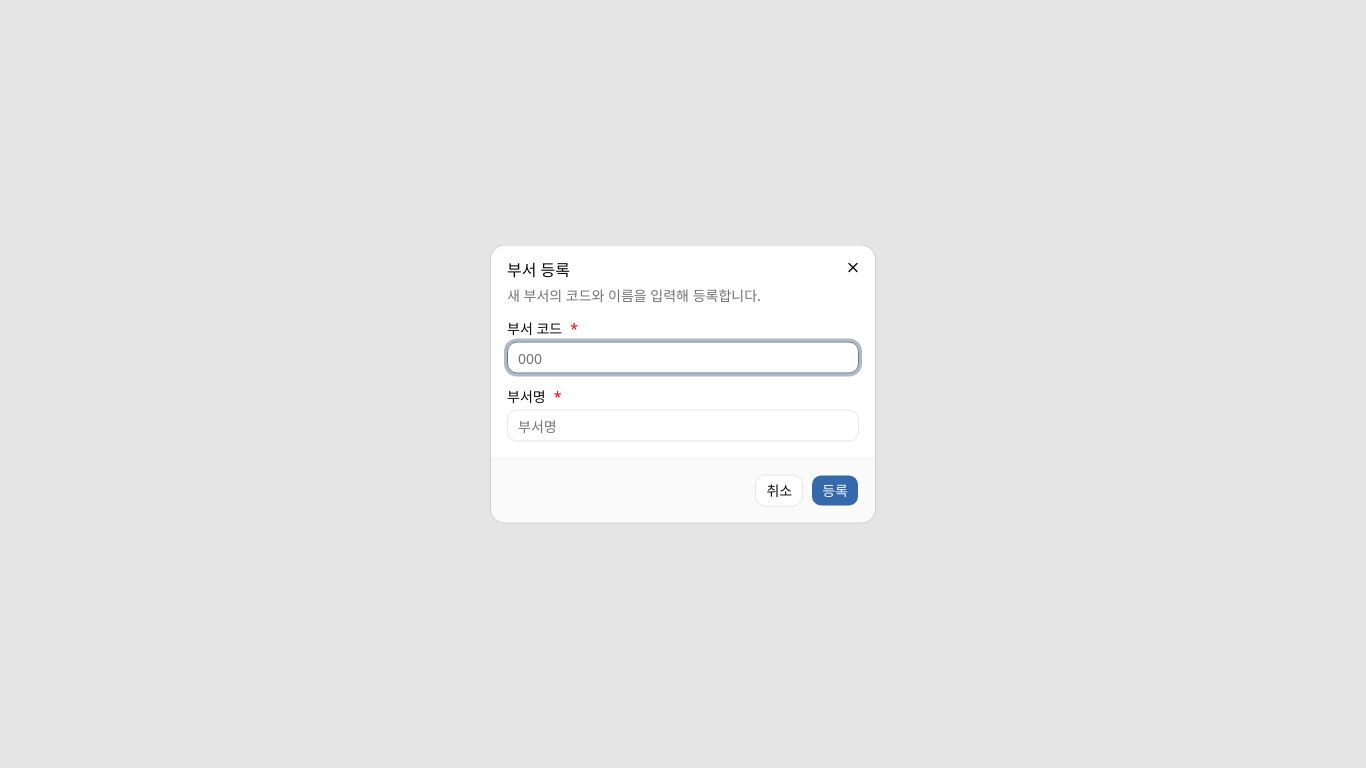
Test: RegisterDepartmentDialog › 부서코드가 3자리 숫자가 아니면 zod 검증 에러를 노출한다
The width and height of the screenshot is (1366, 768).
Type "12" into the field labelled "부서 코드 *" at (683, 358), box x1=507 y1=342 x2=859 y2=374
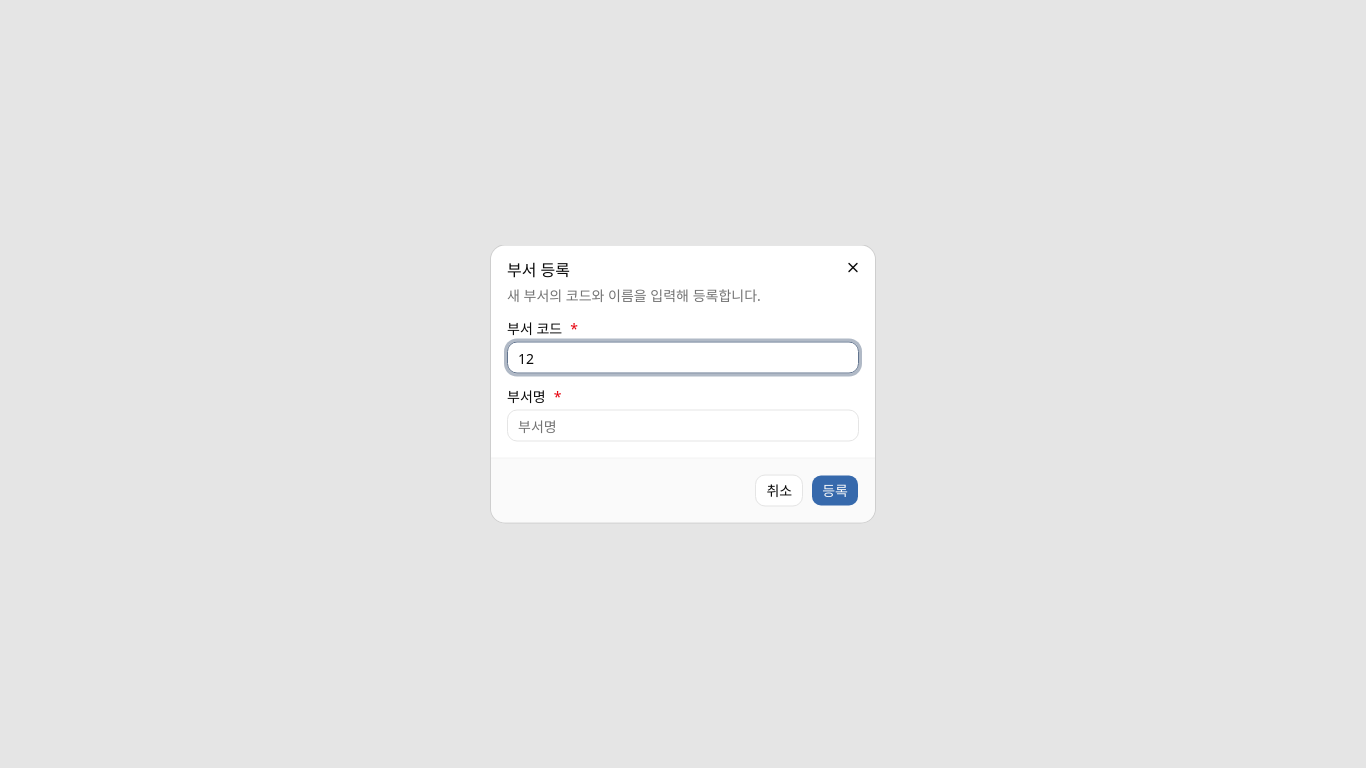
Type "개발팀" into the field labelled "부서명 *" at (683, 426), box x1=507 y1=410 x2=859 y2=442
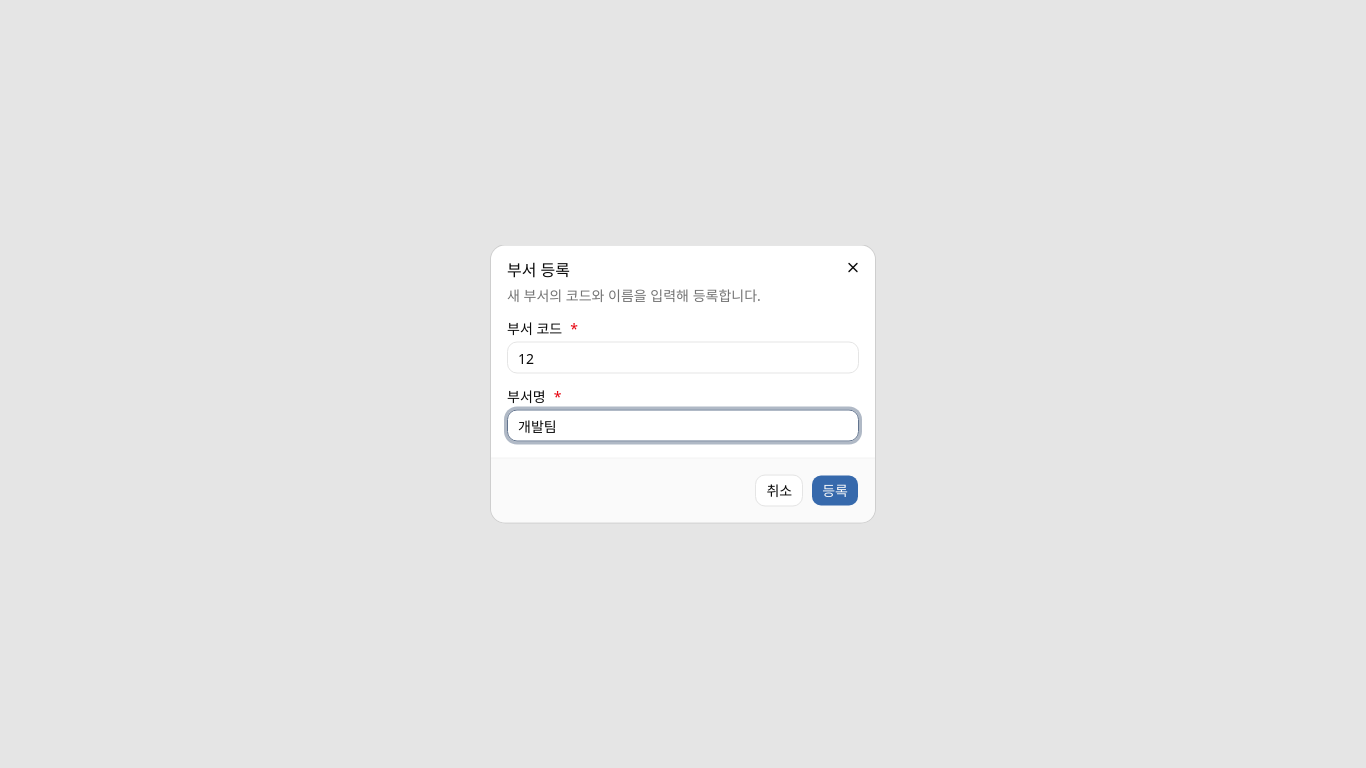
Click the button "등록" at (835, 490), box x1=811 y1=474 x2=859 y2=506
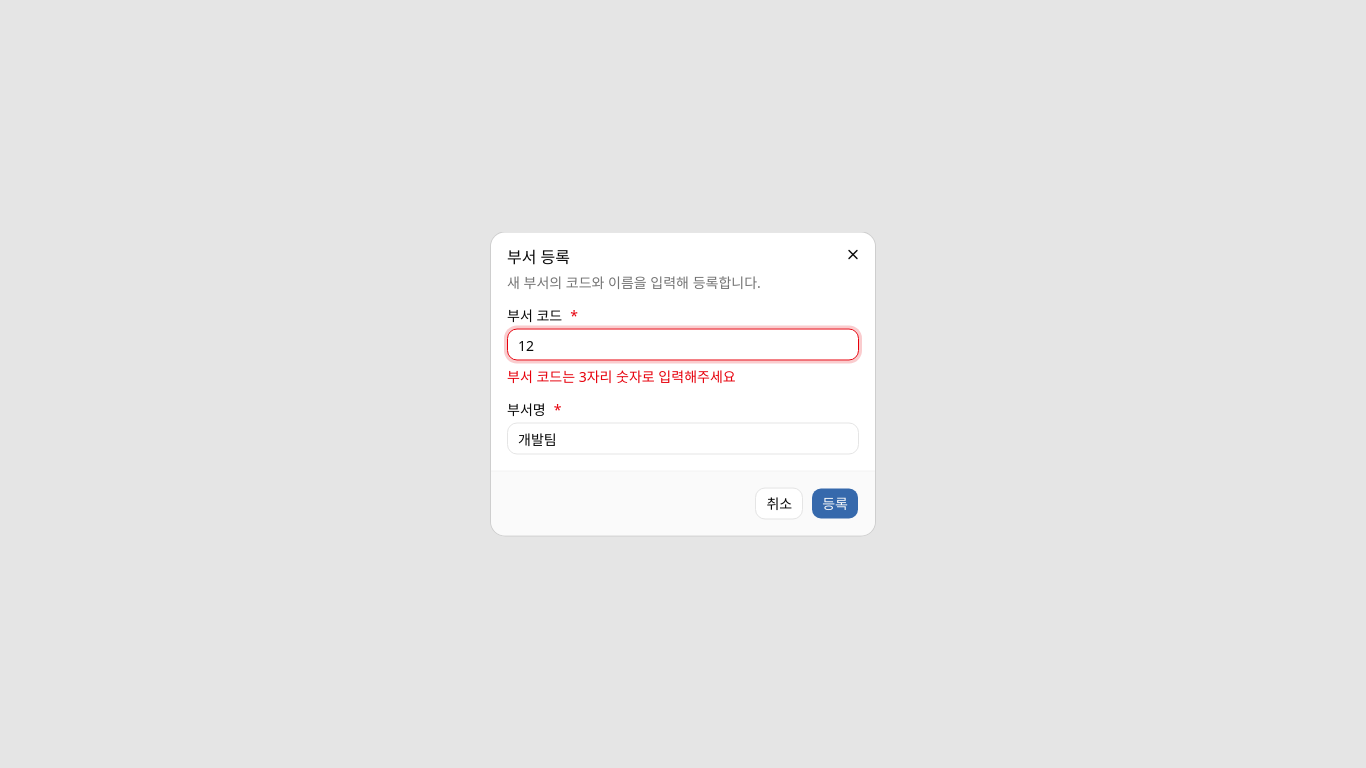
Result: the text "부서 코드는 3자리 숫자로 입력해주세요" is shown at x1=507 y1=366 x2=736 y2=386
